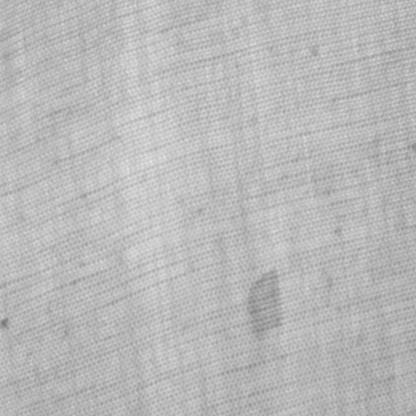oil spot: (246, 266, 283, 337)
